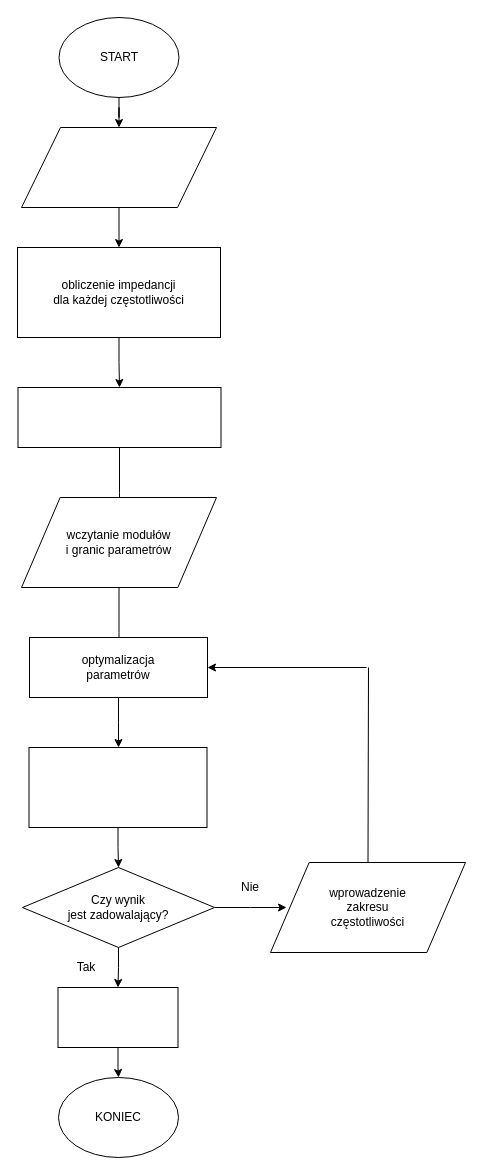
The diagram is 483 pixels wide and 1175 high, and some of its shapes have lost their labels. The centre of each missing label's shape, as x and y in pixels:
wczytanie danych z pliku *.LRC: the point at 118,167
wyświetlenie wykresów Nyquist'a: the point at 119,417
wyświetlenie wyników, parametrów i błędu: the point at 117,787
zapisanie wyników: the point at 117,1017
